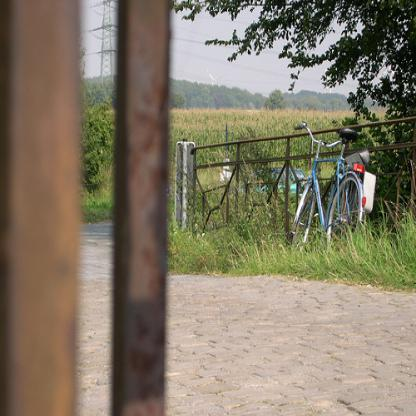bicycle: (293, 120, 378, 254)
car: (239, 164, 306, 202)
